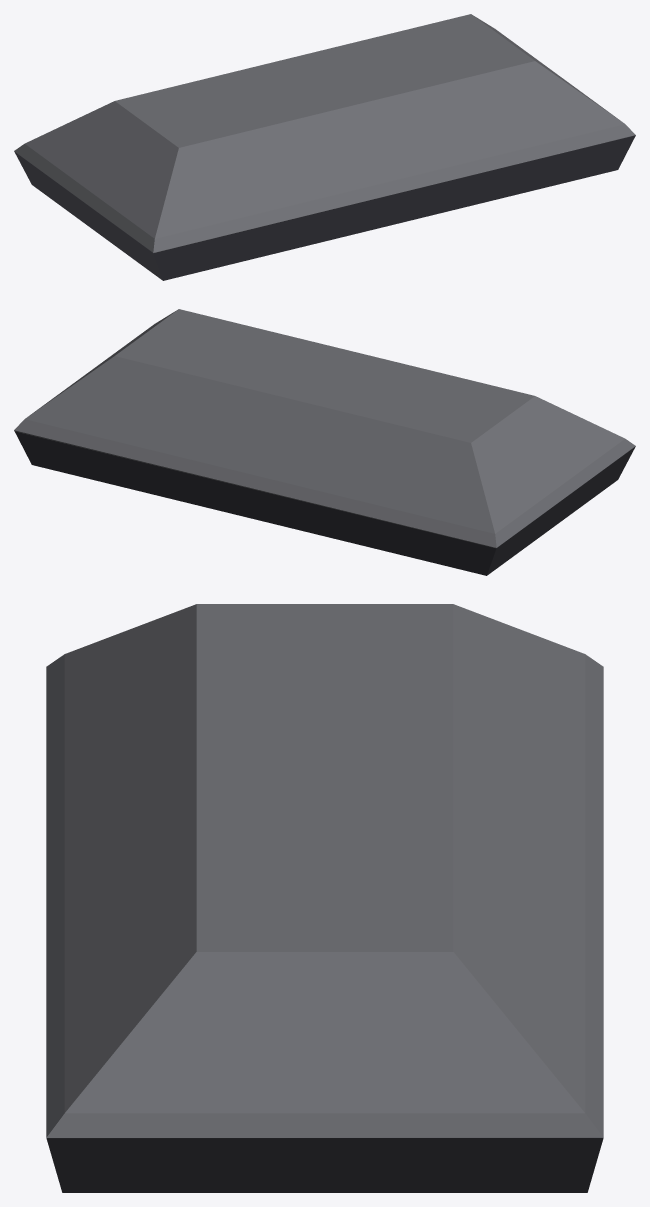
Rendered from Tomb_Lid_Unwrapped.FBX.
3 renders of one model, top to bottom at view 1: azimuth 30°, elevation 25°; view 2: azimuth 150°, elevation 25°; view 3: azimuth 270°, elevation 25°, orthographic. The views are drawn at different scales.
Visible parts, largest first — view 1: Tomb_Lid; view 2: Tomb_Lid; view 3: Tomb_Lid.
Boxes of the visible parts, x1=… form: Tomb_Lid: x1=14, y1=14, x2=635, y2=280; Tomb_Lid: x1=14, y1=309, x2=635, y2=575; Tomb_Lid: x1=46, y1=604, x2=603, y2=1192.
Bounding box in the file's own units: 1.97 × 0.376 × 0.9847.
